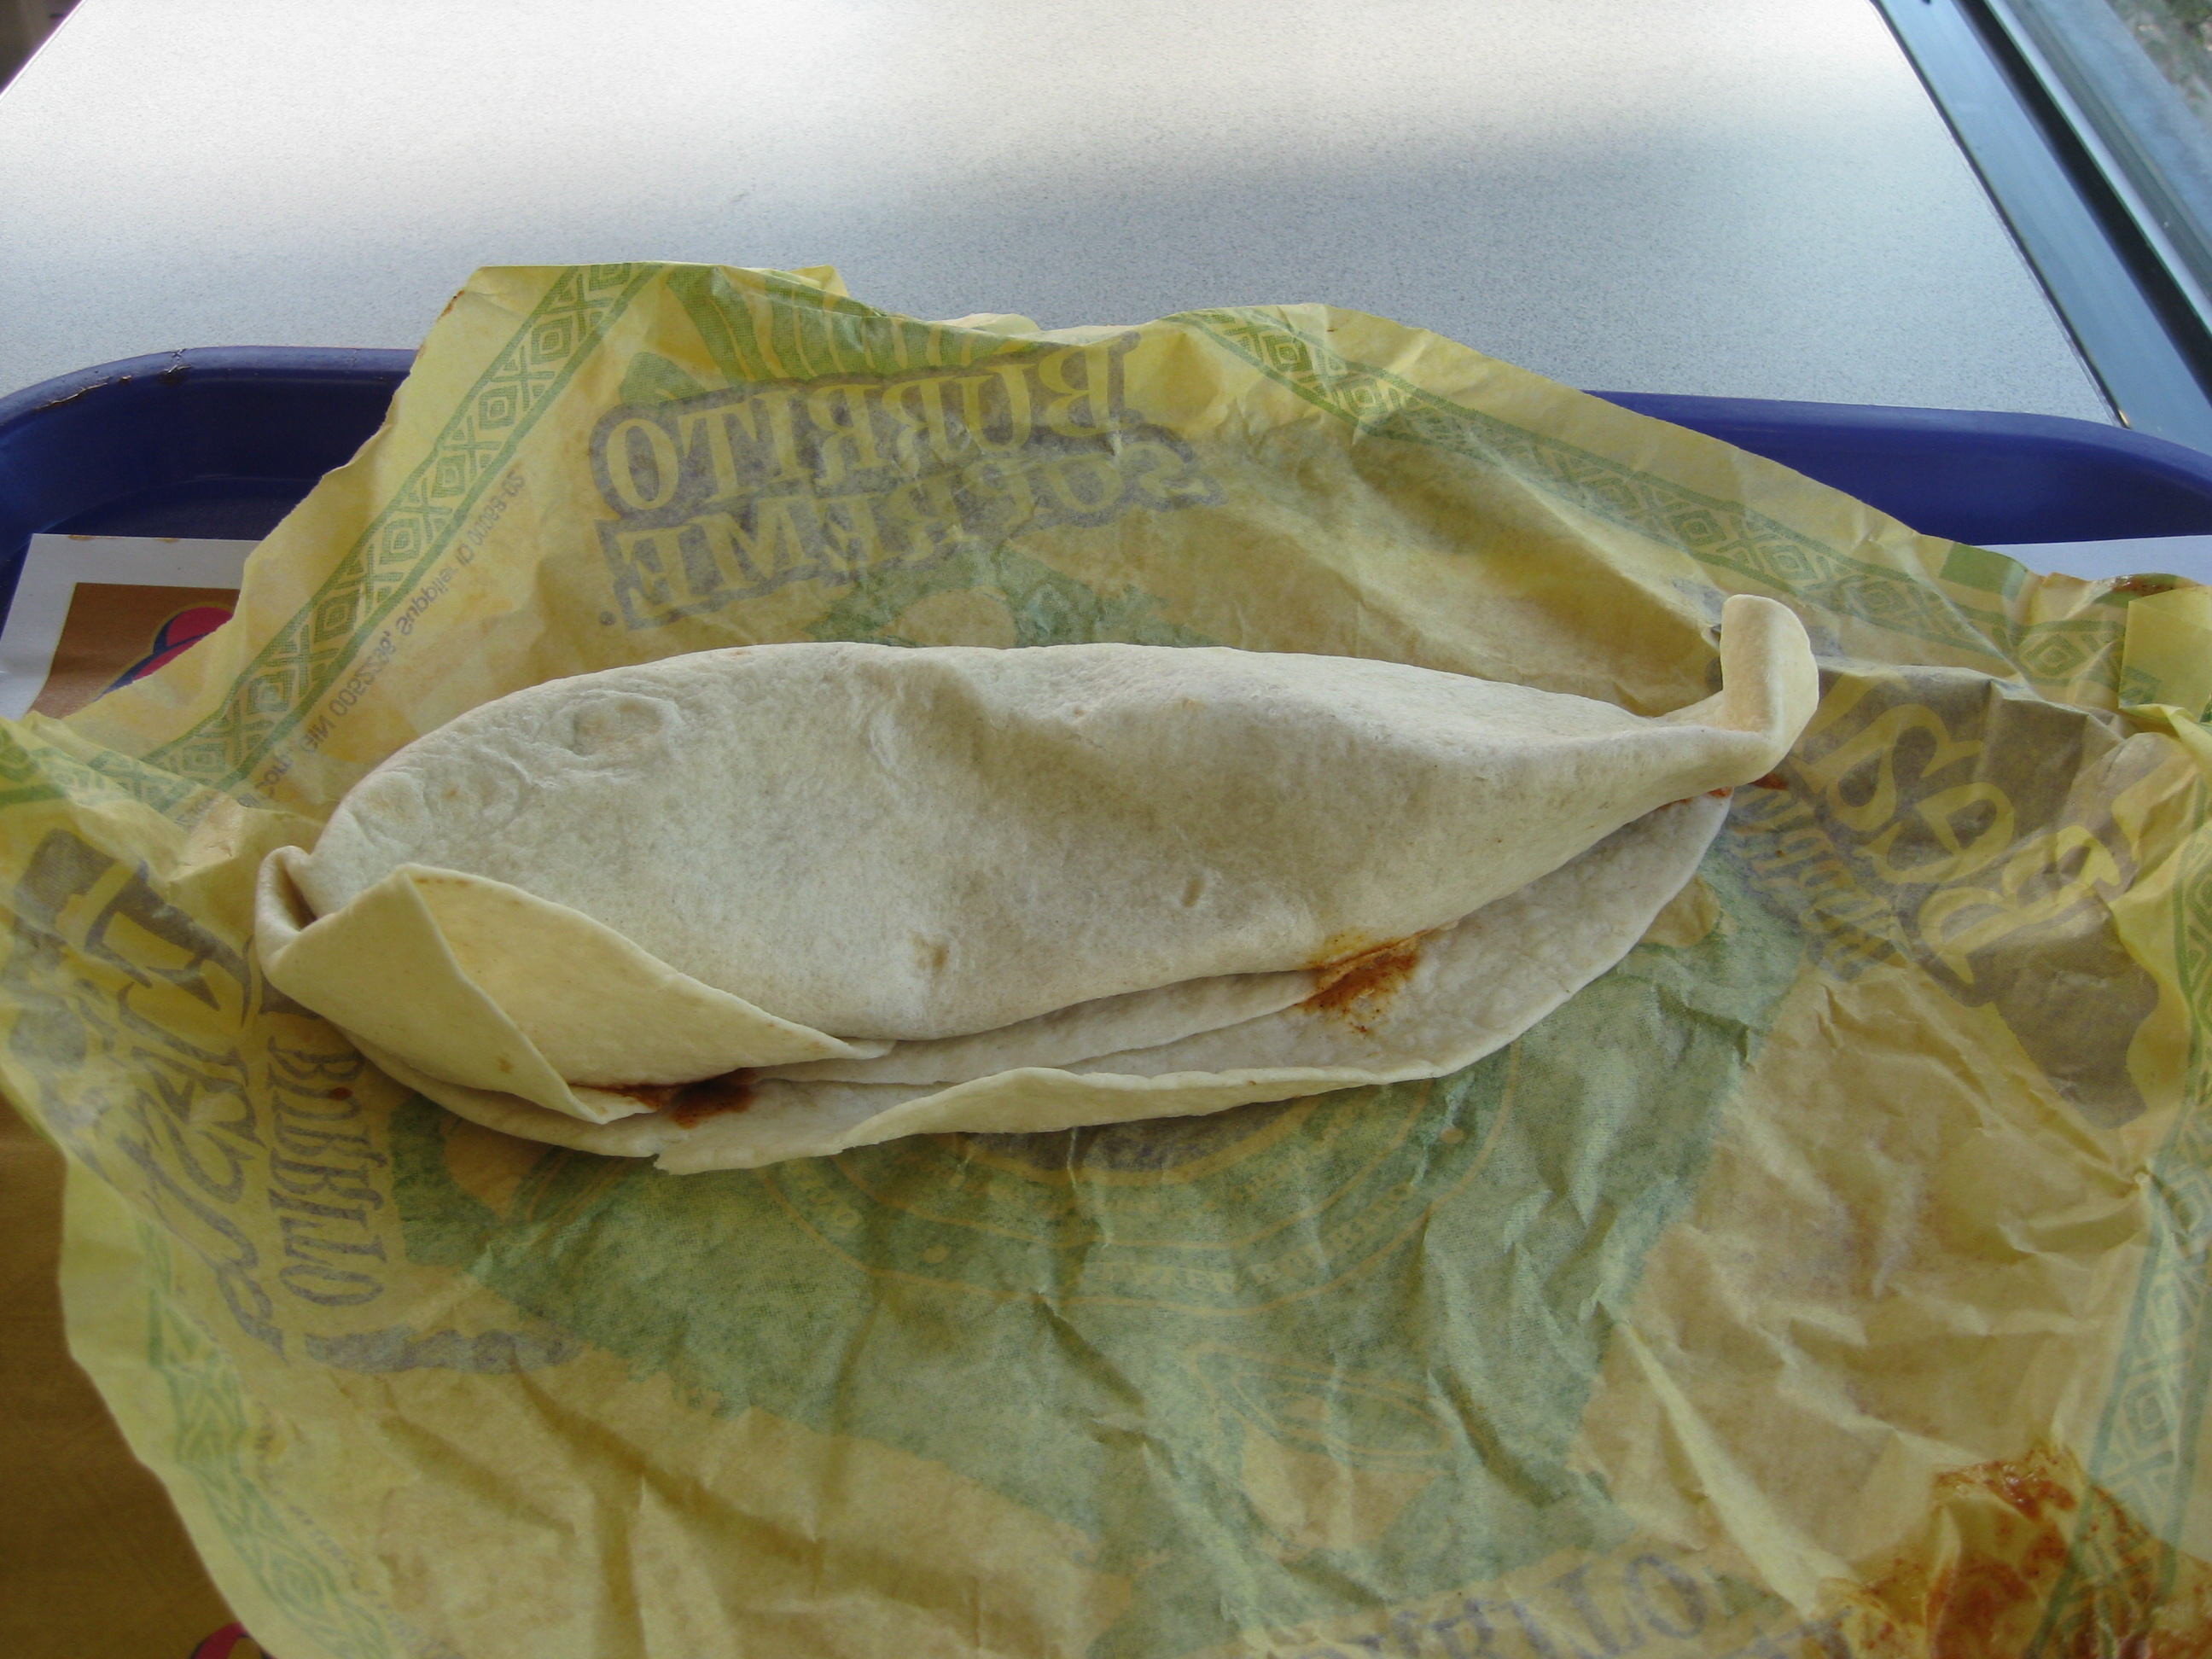burger: (217, 558, 1956, 1241)
